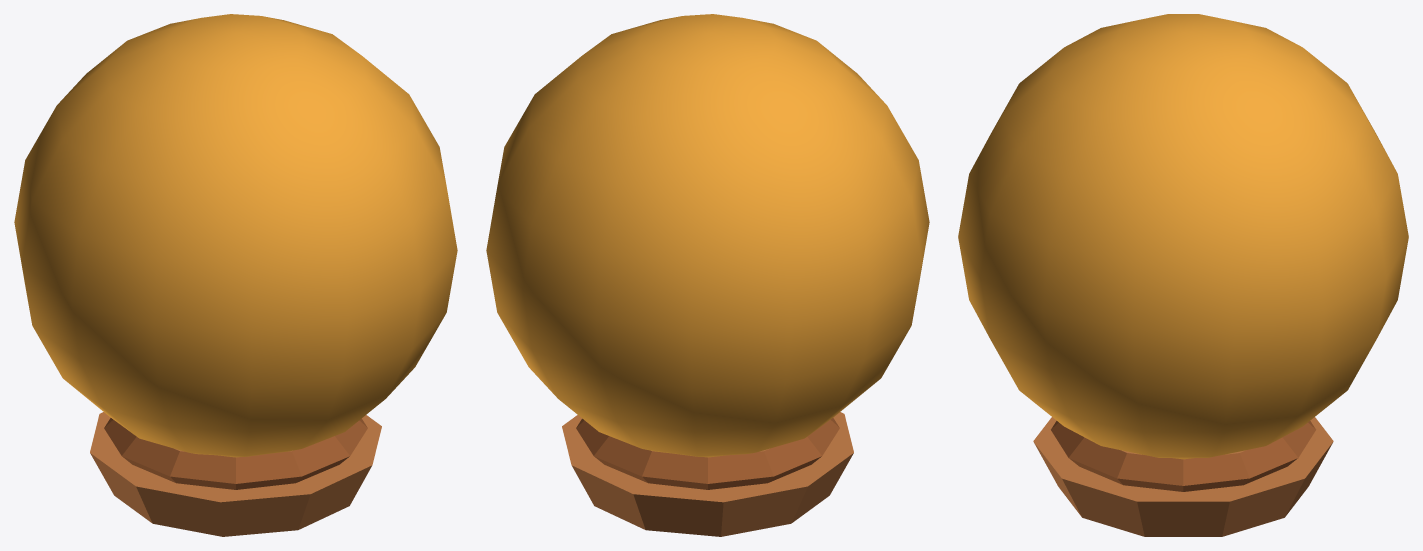
File: glass_marble.glb
3 views of the same model, side by side, from view 1: azimuth 30°, elevation 25°; view 2: azimuth 150°, elevation 25°; view 3: azimuth 270°, elevation 25° (orthographic).
Visible parts, largest first — view 1: glass_marble; view 2: glass_marble; view 3: glass_marble.
Boxes of the visible parts, x1,y1,x2,y2 form: glass_marble: (14, 14, 457, 536); glass_marble: (486, 14, 929, 536); glass_marble: (958, 14, 1408, 536).
Bounding box in the file's own units: 0.1755 × 0.2 × 0.18.
